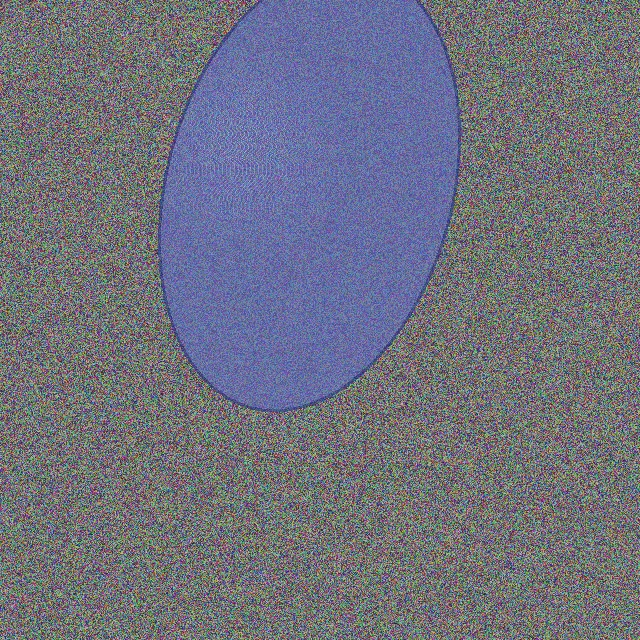lens: (160, 0, 458, 409)
